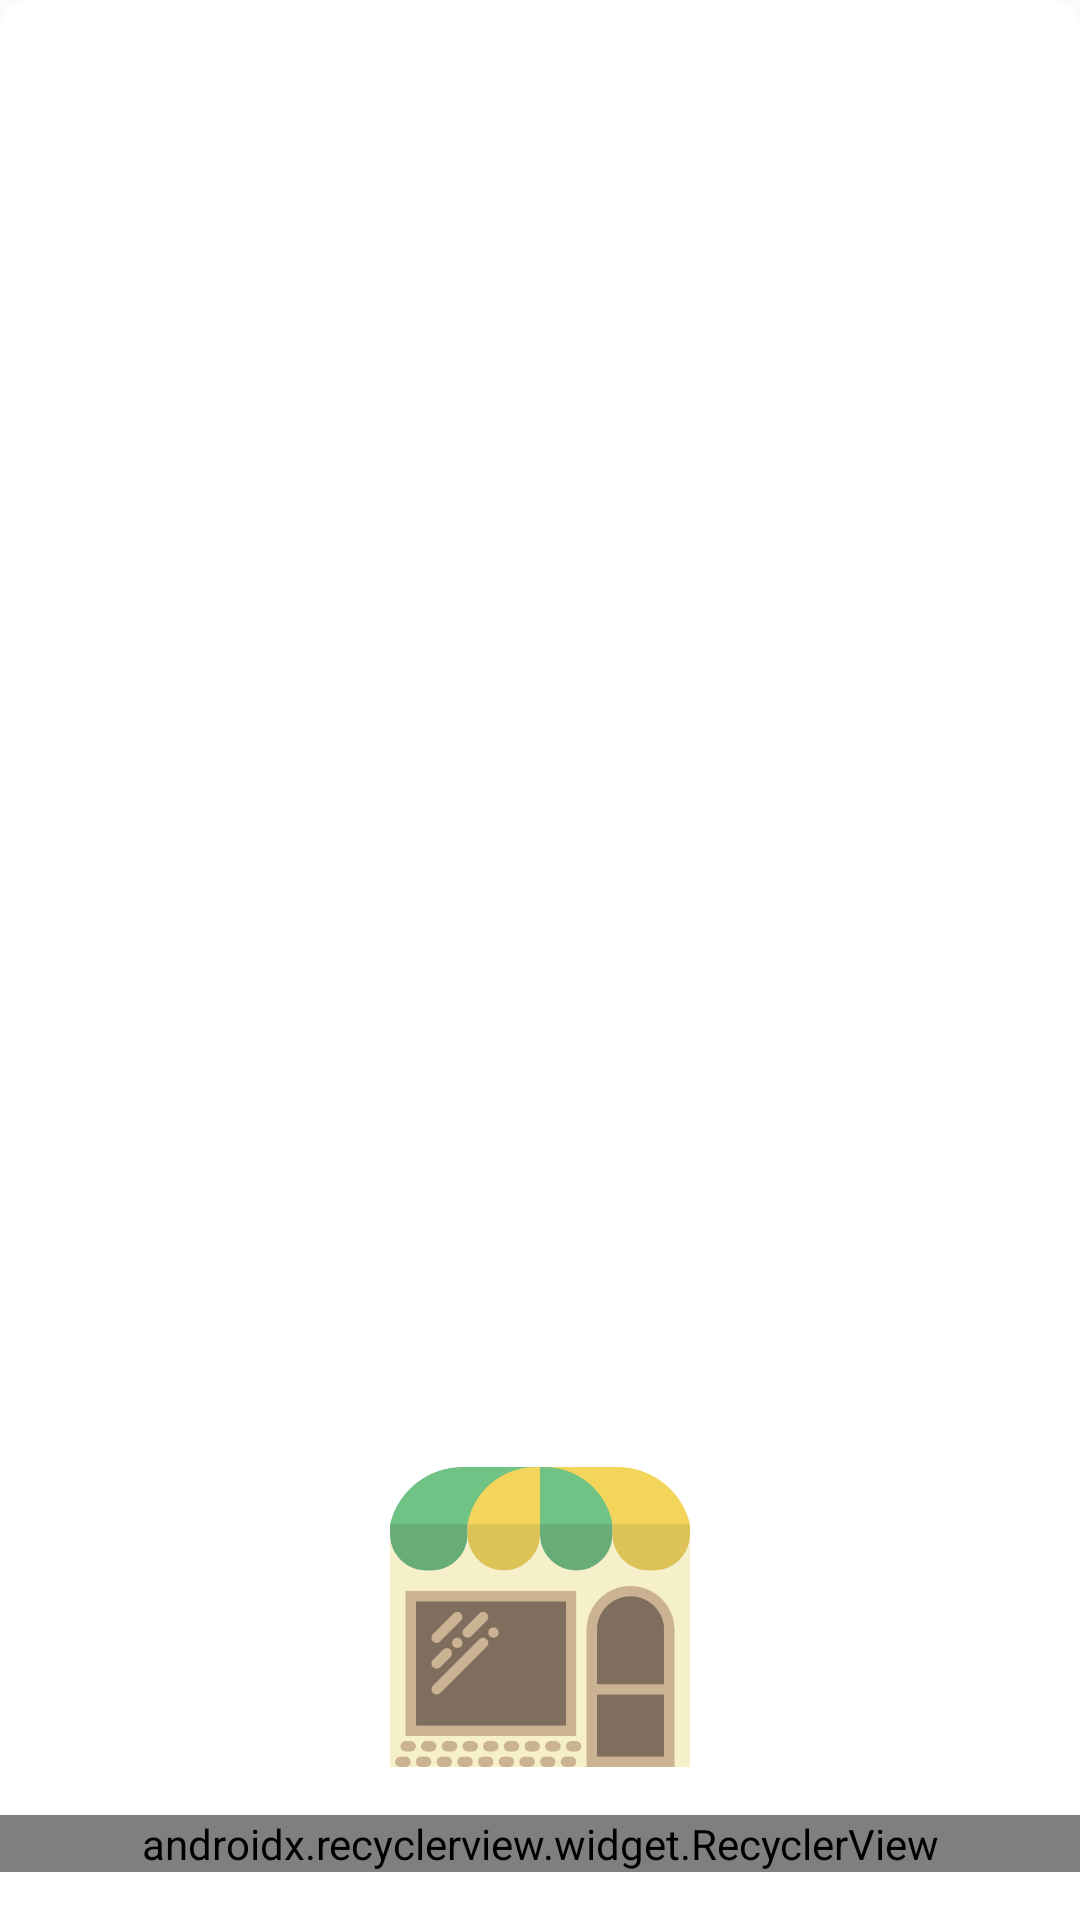

Named icons in this screenshot (1080w x 1920h) and their centers, (x=x, y=y):
store: (x=540, y=1617)
